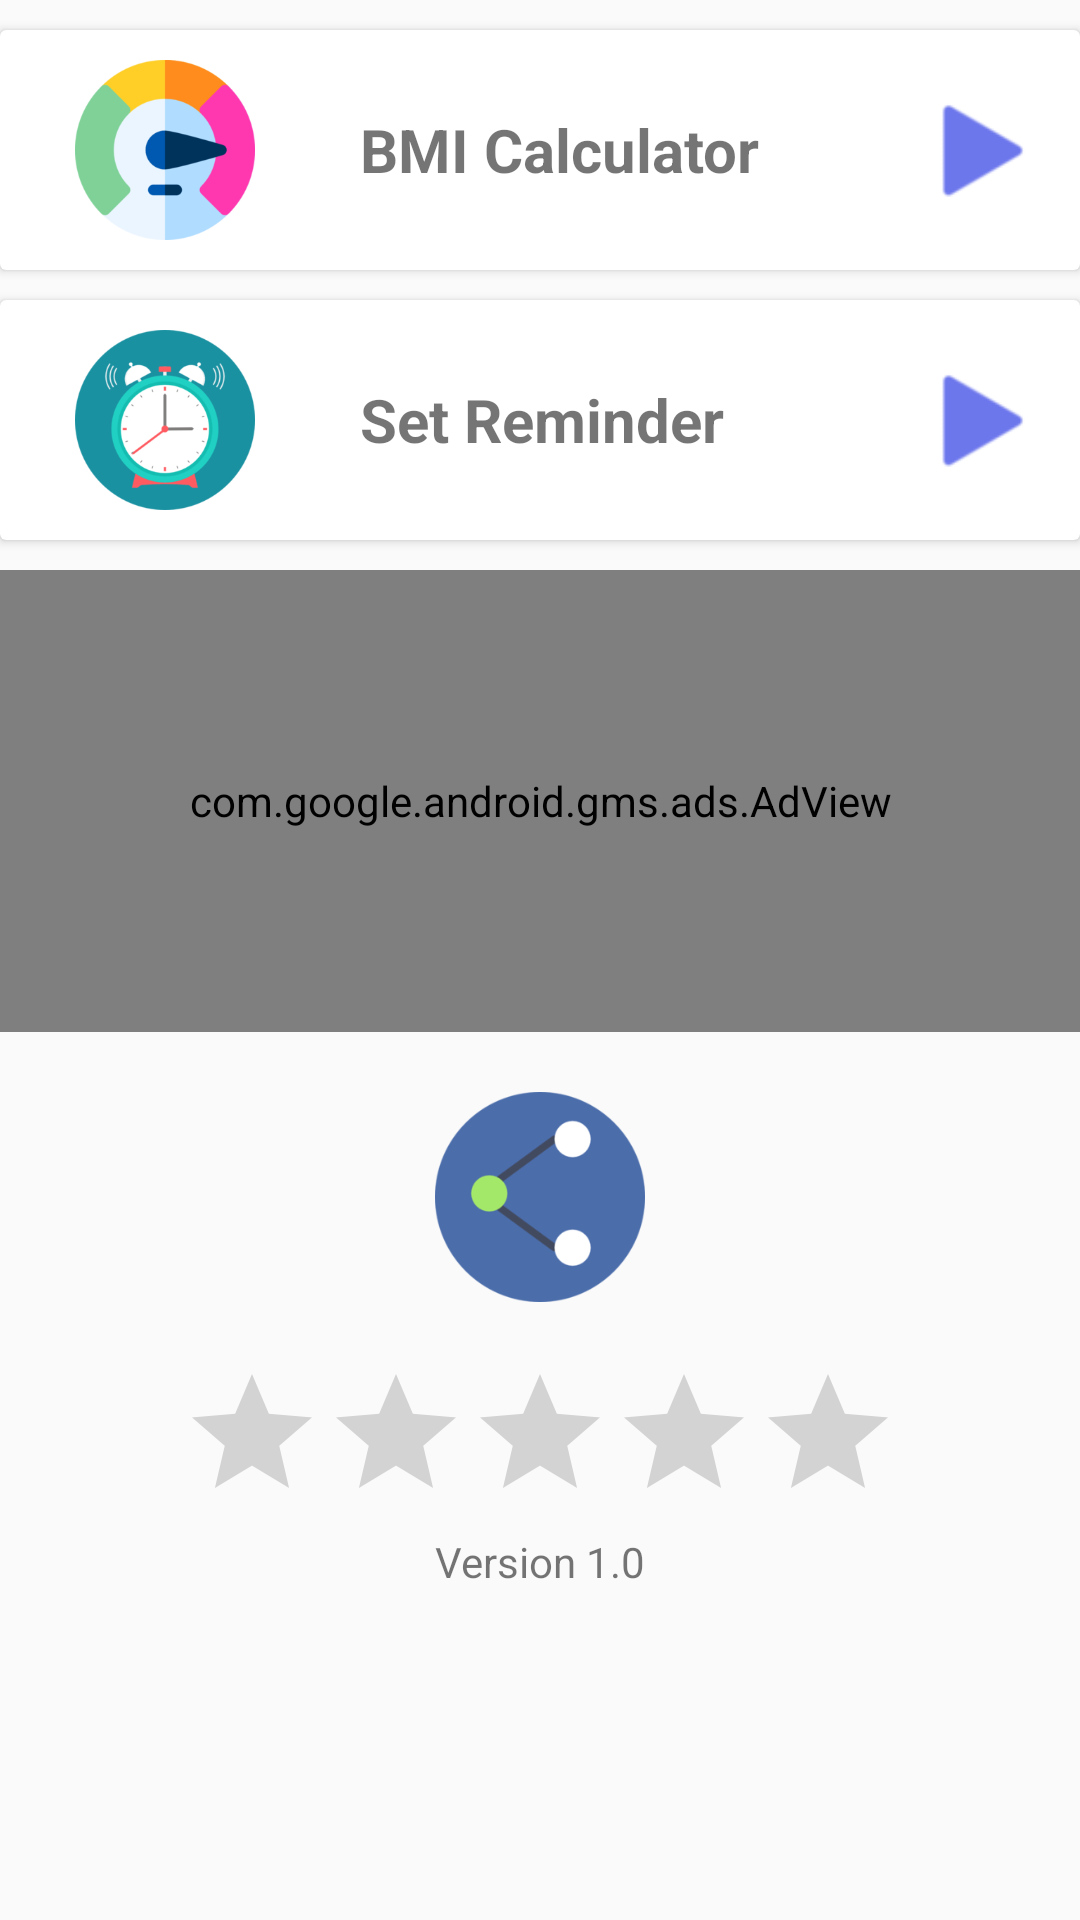

Icons on this 1080w x 1920h Android screen, each with its box as bbox=(x1, y1, x2, y2):
alarm: bbox=(75, 330, 255, 510)
meter: bbox=(75, 60, 255, 240)
play main progress: bbox=(942, 105, 1023, 196), bbox=(942, 375, 1023, 466)
share: bbox=(435, 1092, 645, 1302)
